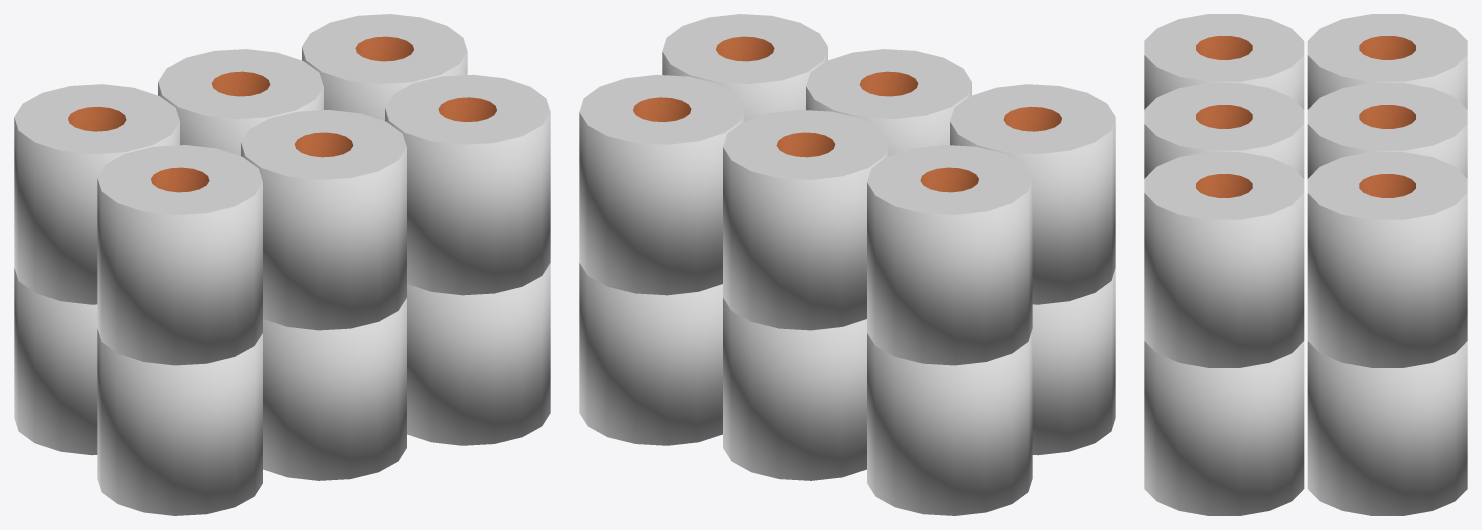
The model's file is tPaper.fbx.
The picture shows the model from 3 angles, left to right: view 1: azimuth 30°, elevation 25°; view 2: azimuth 150°, elevation 25°; view 3: azimuth 270°, elevation 25°; orthographic projection.
Parts seen in each view (by area): view 1: TPRoll; view 2: TPRoll; view 3: TPRoll.
Boxes of the visible parts, bbox=[...] form: TPRoll: bbox=[14, 14, 550, 515]; TPRoll: bbox=[579, 14, 1115, 515]; TPRoll: bbox=[1144, 14, 1467, 515].
Size of the model in its own units: 596 by 400 by 396.
